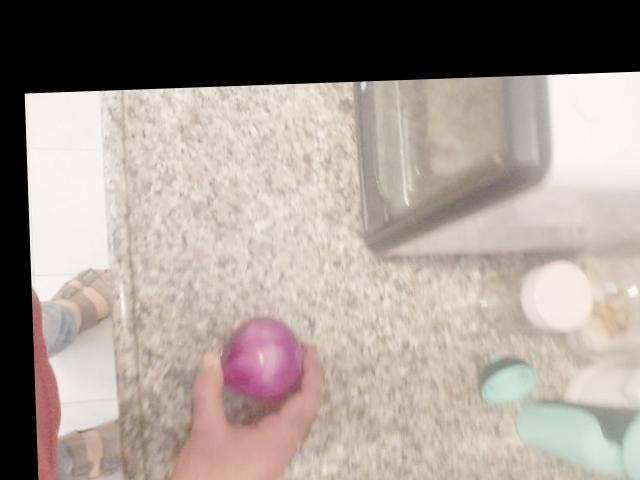onion: (348, 107, 437, 205)
